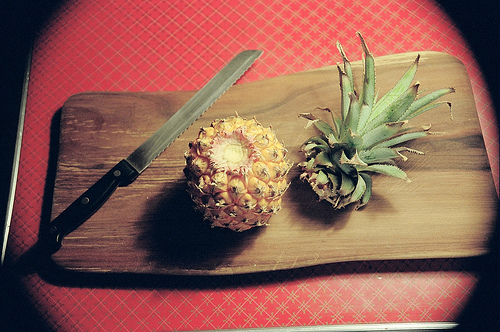pineapple: (297, 29, 459, 215), (183, 109, 294, 234)
